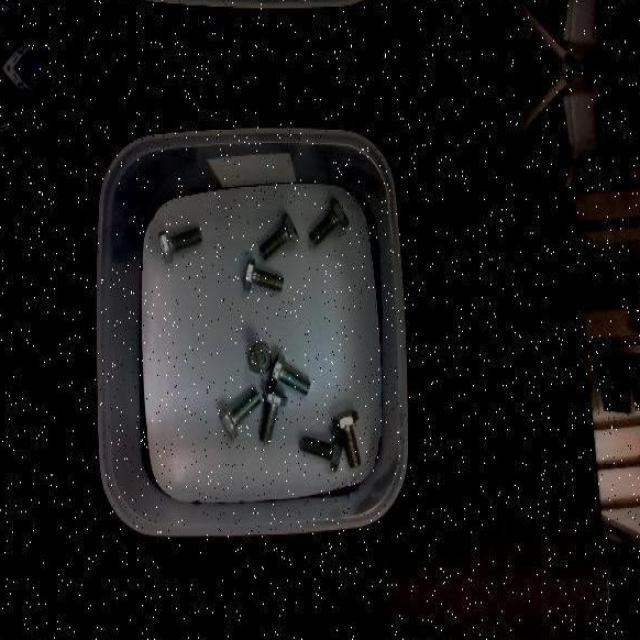screw: (218, 390, 260, 440), (309, 197, 349, 245), (260, 211, 298, 260), (268, 352, 312, 394), (158, 226, 202, 264), (300, 434, 344, 472), (332, 408, 360, 467), (260, 387, 288, 444), (243, 258, 285, 292), (246, 342, 272, 376)
